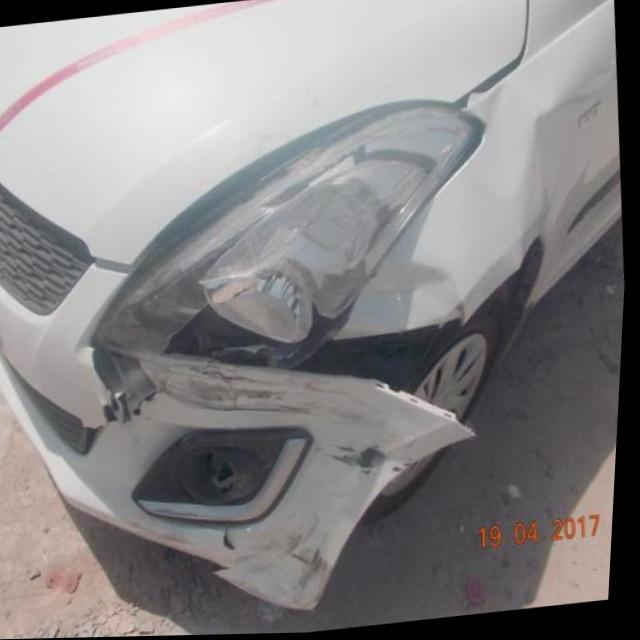Car-Damage: (160, 318, 481, 467), (156, 233, 363, 374), (144, 343, 391, 452), (130, 435, 308, 527), (505, 91, 605, 253), (218, 502, 351, 623), (347, 253, 471, 341), (76, 342, 169, 453), (328, 429, 406, 484), (226, 525, 244, 557)
